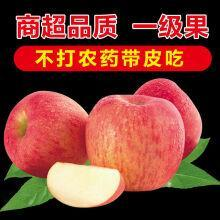apple: (85, 94, 184, 193), (5, 91, 88, 176), (47, 162, 126, 207)
